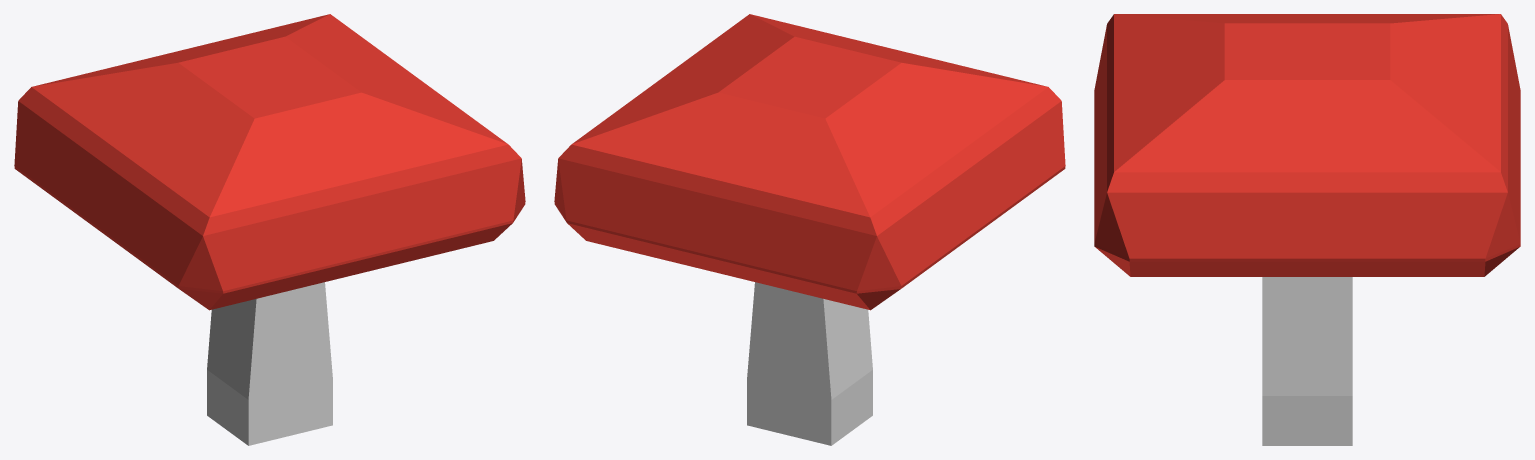
Rendered from RedShroom.fbx.
3 views of the same model, side by side, from view 1: azimuth 30°, elevation 25°; view 2: azimuth 150°, elevation 25°; view 3: azimuth 270°, elevation 25° (orthographic). The views are drawn at different scales.
Visible parts, largest first — view 1: MushroomRed; view 2: MushroomRed; view 3: MushroomRed.
Part boxes in pixels (box(x1,y1,x2,y2)): MushroomRed: box(14, 14, 525, 445); MushroomRed: box(554, 14, 1065, 445); MushroomRed: box(1094, 14, 1520, 445).
Size of the model in its own units: 1.48 by 1.4 by 1.45.
